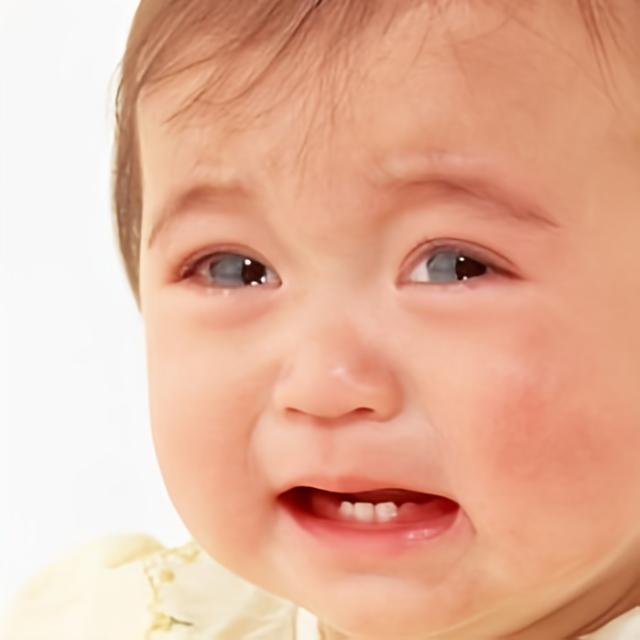sad: (136, 0, 636, 640)
